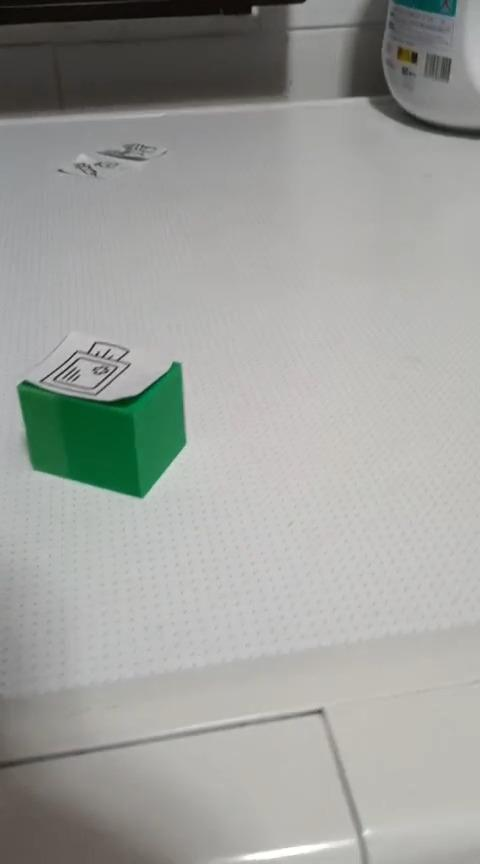Gauze: (15, 329, 187, 499), (379, 0, 479, 132)
